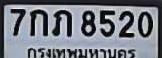0: (137, 10, 152, 37)
2: (118, 10, 133, 37)
5: (99, 9, 114, 36)
7: (10, 8, 25, 35)
8: (80, 9, 95, 35)
A01: (29, 8, 47, 35)
A32: (51, 9, 71, 36)
BKK: (24, 45, 139, 58)
